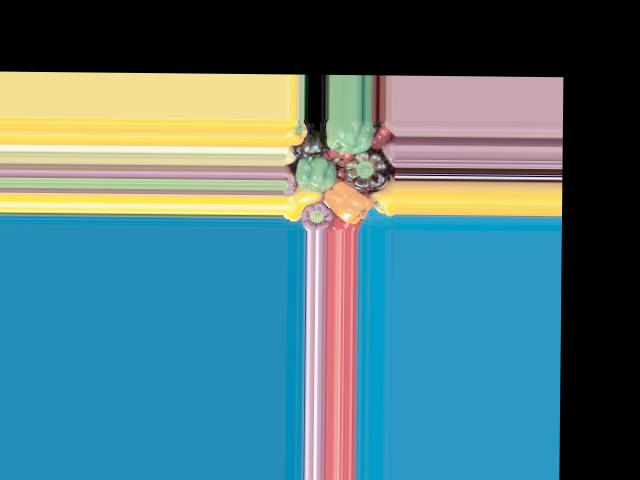bell_pepper: (327, 118, 375, 150)
